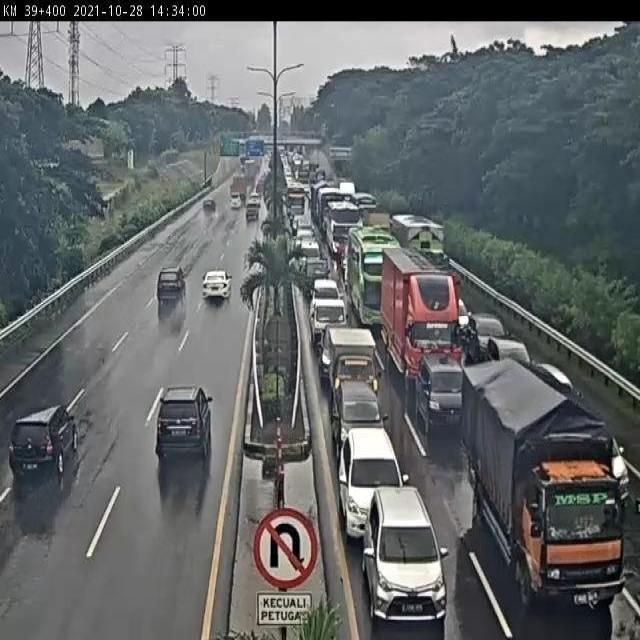Bus: (348, 222, 405, 332)
Car: (361, 486, 451, 625), (338, 426, 404, 541), (8, 403, 77, 482), (332, 376, 386, 459), (155, 385, 212, 462), (416, 353, 467, 434), (465, 312, 509, 361), (608, 439, 632, 511), (479, 335, 530, 367), (157, 266, 187, 314), (309, 280, 344, 318), (532, 362, 572, 393), (201, 270, 232, 300), (456, 298, 474, 335), (246, 193, 261, 207), (203, 198, 216, 212), (230, 194, 242, 209)
Truck: (462, 358, 625, 612), (383, 244, 465, 382), (321, 326, 378, 411), (390, 214, 451, 265), (310, 303, 348, 344), (365, 212, 394, 230)
